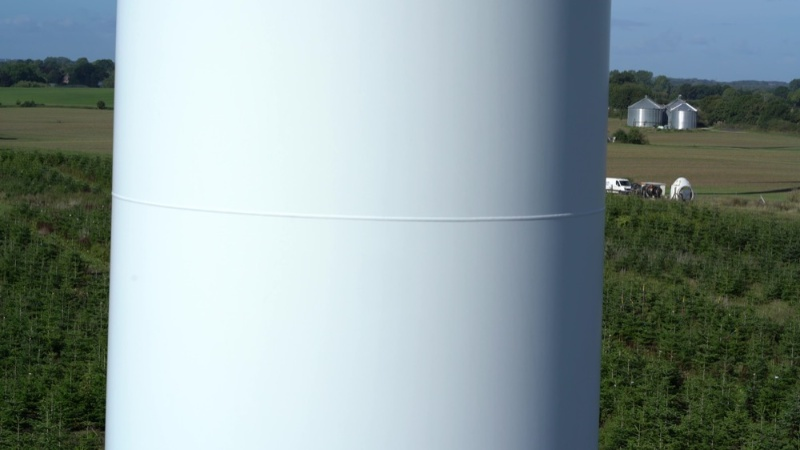weldseam: (111, 186, 607, 228)
